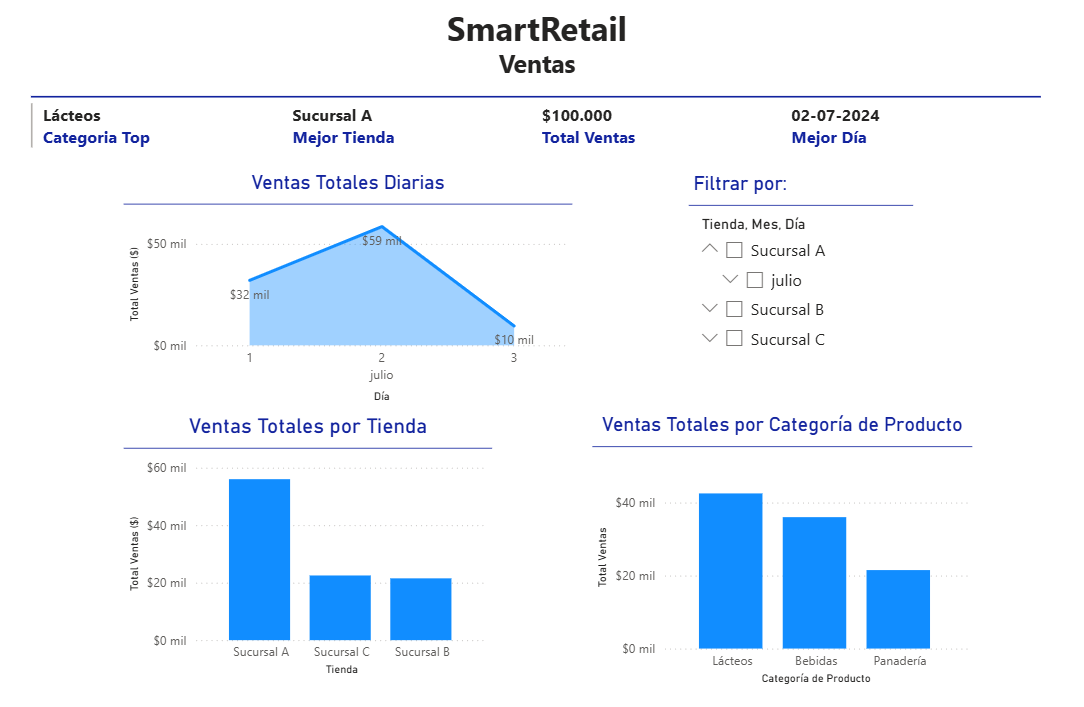

Layout of this report page (visuals, bound fields, positions):
{"tool":"powerbi","page":{"name":"ventas","canvas":[1280,720],"ordinal":0},"visuals":[{"type":"areaChart","title":"Ventas Totales Diarias","fields":{"Y":["Sum(ventas.Total_Ventas)"],"Category":["ventas.Fecha.Variación.Jerarquía de fechas.Mes","ventas.Fecha.Variación.Jerarquía de fechas.Día"]},"box":[256.6,181.1,439.1,230.5],"z":0},{"type":"clusteredColumnChart","title":"Ventas Totales por Categoría de Producto","fields":{"Category":["ventas.Categoria_Producto"],"Y":["Sum(ventas.Total_Ventas)"]},"box":[714.9,418.5,371.9,269],"z":1000},{"type":"clusteredColumnChart","title":"Ventas Totales por Tienda","fields":{"Category":["ventas.Tienda"],"Y":["Sum(ventas.Total_Ventas)"]},"box":[256.6,418.5,360.9,260.7],"z":2000},{"type":"slicer","title":"Filtrar por:","fields":{"Values":["ventas.Tienda","ventas.Fecha.Variación.Jerarquía de fechas.Mes","ventas.Fecha.Variación.Jerarquía de fechas.Día"]},"box":[809.5,182.2,220.1,209.1],"z":3000},{"type":"textbox","box":[533.8,15.1,253.9,54.9],"z":4000},{"type":"textbox","box":[573.6,54.9,175.6,48],"z":5000},{"type":"multiRowCard","fields":{"Values":["inventario.Categoria Top","inventario.Mejor Tienda","inventario.Total Ventas","inventario.Mejor Día"]},"box":[161.9,102.9,997.6,67.2],"z":6000}]}

Visuals, with their boxes on the page's 1280x720 design canvas (x1, y1, x2, y2). These are canvas units, not pixel positions in the 1084x707 screenshot, which may show the page scaled, cropped or inside an application window:
"Ventas Totales Diarias" areaChart: box(257, 181, 696, 412)
"Ventas Totales por Categoría de Producto" clusteredColumnChart: box(715, 418, 1087, 688)
"Ventas Totales por Tienda" clusteredColumnChart: box(257, 418, 618, 679)
"Filtrar por:" slicer: box(810, 182, 1030, 391)
textbox: box(534, 15, 788, 70)
textbox: box(574, 55, 749, 103)
multiRowCard - inventario.Categoria Top x inventario.Mejor Tienda: box(162, 103, 1160, 170)
